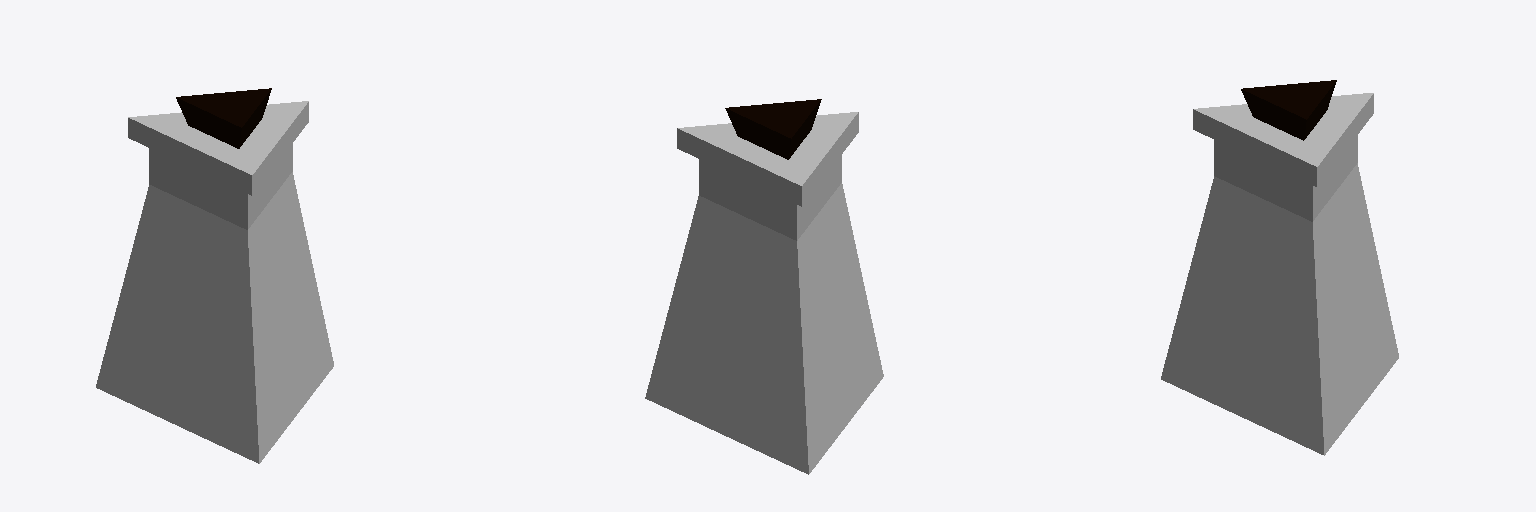
Rendered from flask_5.obj.
3 views of the same model, side by side, from view 1: azimuth 30°, elevation 25°; view 2: azimuth 150°, elevation 25°; view 3: azimuth 270°, elevation 25° (orthographic).
Parts seen in each view (by area): view 1: 25_Цилиндр.004; view 2: 25_Цилиндр.004; view 3: 25_Цилиндр.004.
Part boxes in pixels (left/top/right/bottom): 25_Цилиндр.004: left=96, top=88, right=333, bottom=463; 25_Цилиндр.004: left=645, top=99, right=883, bottom=474; 25_Цилиндр.004: left=1161, top=80, right=1398, bottom=455.
Size of the model in its own units: 0.3162 by 0.4522 by 0.3248.